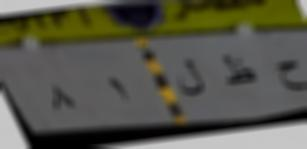1: (105, 73, 134, 104)
7aa: (272, 58, 307, 92)
8: (46, 79, 81, 118)
Thaa: (215, 53, 258, 92)
laam: (169, 55, 207, 101)
